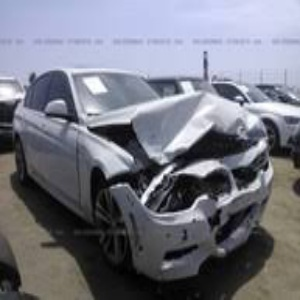bonnet: (121, 86, 259, 144)
bumper: (110, 187, 245, 274)
